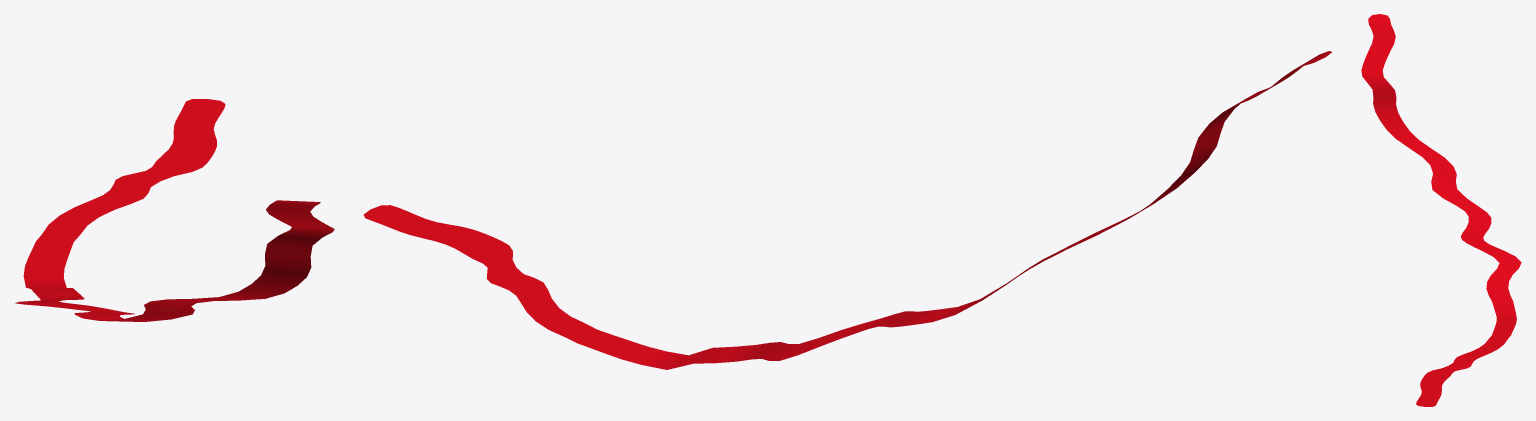
Rendered from hair9.fbx.
The picture shows the model from 3 angles, left to right: view 1: azimuth 90°, elevation 25°; view 2: azimuth 150°, elevation 25°; view 3: azimuth 270°, elevation 25°; orthographic projection. The views are drawn at different scales.
Visible parts, largest first — view 1: Plane.010; view 2: Plane.010; view 3: Plane.010.
Part boxes in pixels (x1=…): Plane.010: x1=15, y1=99, x2=334, y2=321; Plane.010: x1=363, y1=51, x2=1331, y2=369; Plane.010: x1=1361, y1=14, x2=1521, y2=406.
Size of the model in its own units: 9583 by 3436 by 2922.
